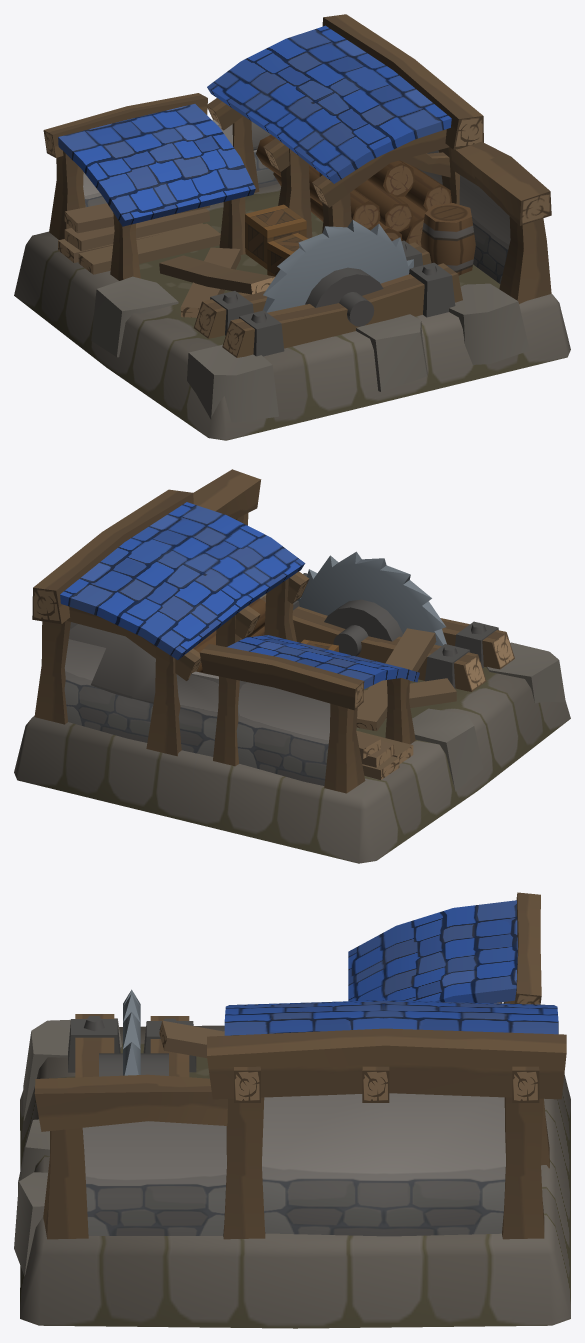
The model's file is LumberMill.FBX.
3 renders of one model, top to bottom at view 1: azimuth 30°, elevation 25°; view 2: azimuth 150°, elevation 25°; view 3: azimuth 270°, elevation 25°, orthographic. The views are drawn at different scales.
Parts seen in each view (by area): view 1: LumberMill; view 2: LumberMill; view 3: LumberMill.
Boxes of the visible parts, bbox=[...] form: LumberMill: bbox=[14, 14, 570, 440]; LumberMill: bbox=[14, 469, 570, 863]; LumberMill: bbox=[14, 892, 570, 1328].
Bounding box in the file's own units: 675 × 382 × 665.
